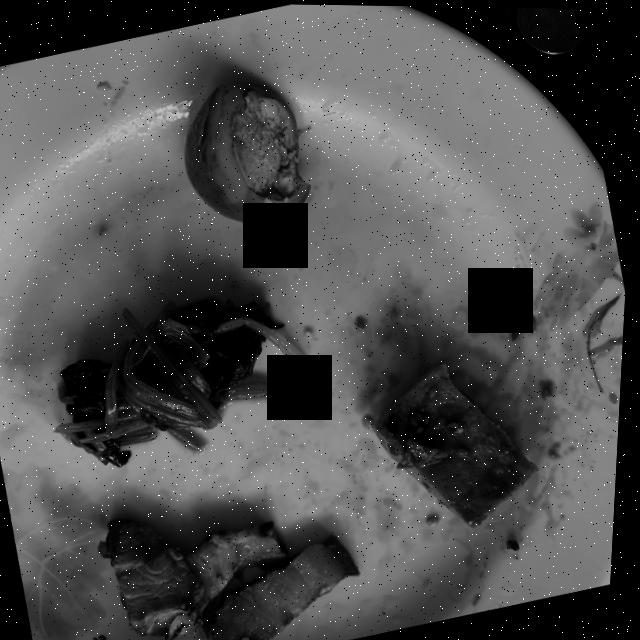coin: (515, 6, 581, 52)
creamy tofu: (377, 361, 541, 524)
grilled pork: (104, 517, 364, 640)
mustard greens: (61, 296, 308, 464)
soy egg: (185, 81, 312, 222)
